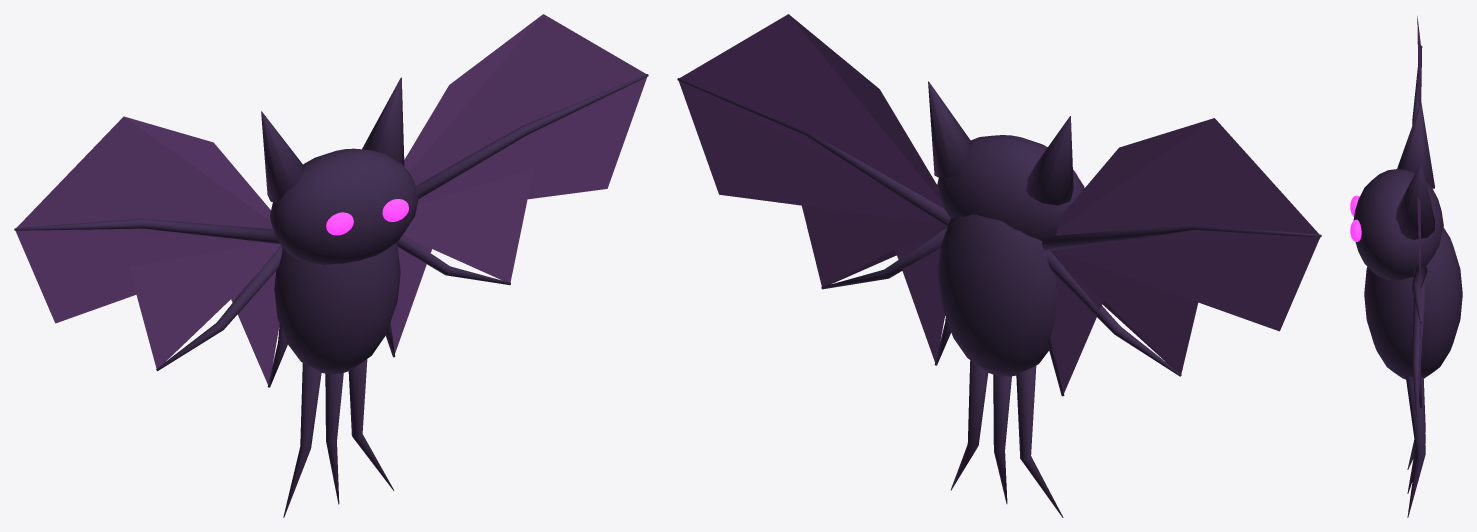
File: veil_moth.glb
The picture shows the model from 3 angles, left to right: view 1: azimuth 30°, elevation 25°; view 2: azimuth 150°, elevation 25°; view 3: azimuth 270°, elevation 25°; orthographic projection. The views are drawn at different scales.
Visible parts, largest first — view 1: Wing, Wing.001, Body; view 2: Wing, Wing.001, Body; view 3: Body, Wing.001, Wing.
Boxes of the visible parts, x1,y1,x2,y2 form: Wing: [14, 116, 287, 387]; Wing.001: [385, 14, 648, 357]; Body: [261, 77, 418, 517]; Wing: [1042, 118, 1321, 396]; Wing.001: [677, 14, 951, 365]; Body: [928, 81, 1084, 517]; Body: [1350, 102, 1462, 517]; Wing.001: [1412, 197, 1427, 416]; Wing: [1412, 16, 1422, 125].
Bounding box in the file's own units: 1.72 × 1.13 × 0.297.
